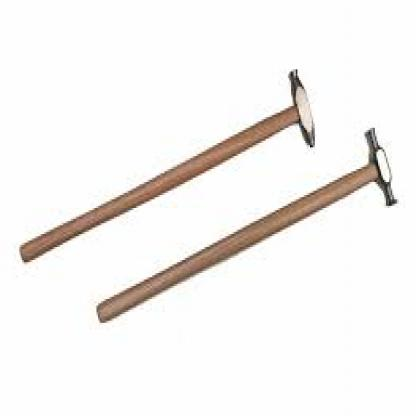Hammer: (16, 62, 322, 271), (92, 120, 402, 326)
